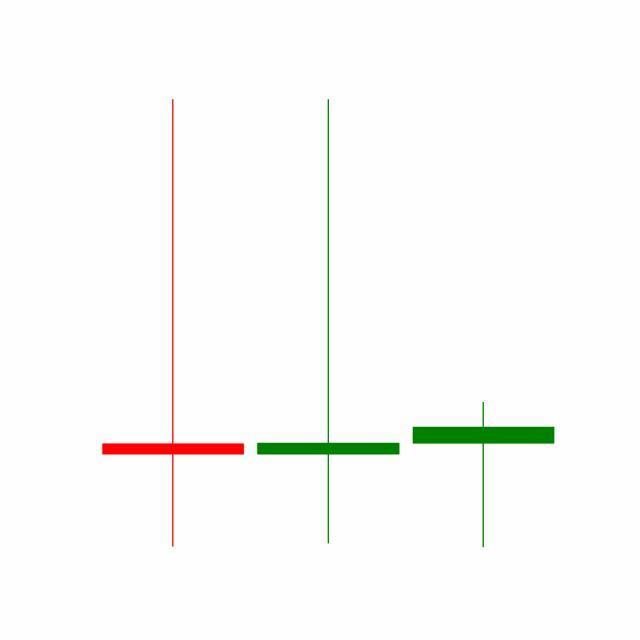Hammer: (406, 401, 562, 550)
